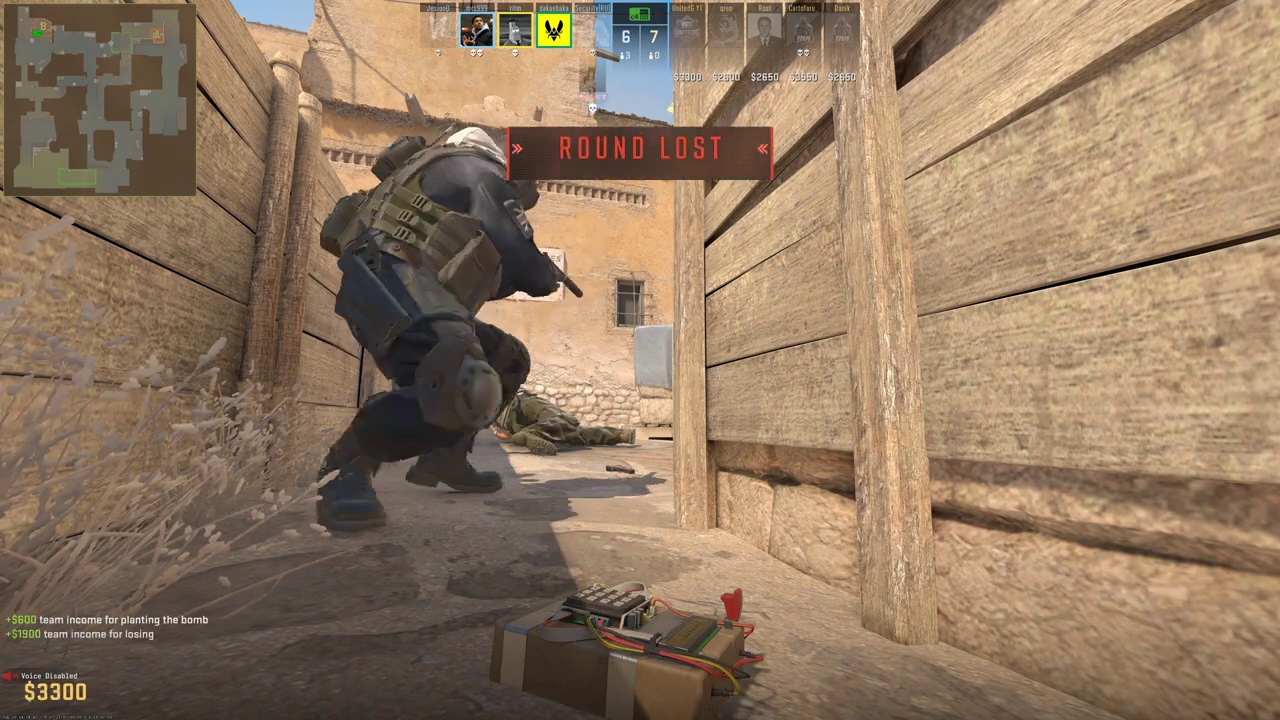CT: (321, 127, 548, 519)
